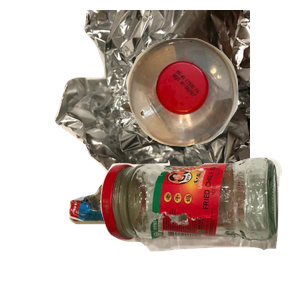glass: (98, 155, 300, 300)
metal: (52, 10, 292, 190)
plastic: (124, 36, 300, 175)
trash: (66, 173, 272, 300)
